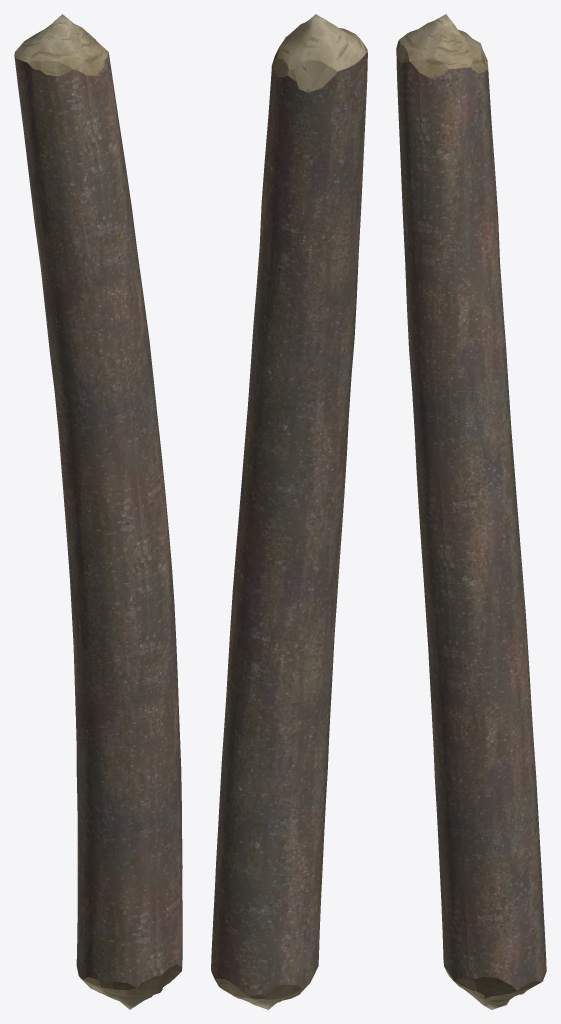
3 renders of one model, left to right at view 1: azimuth 30°, elevation 25°; view 2: azimuth 150°, elevation 25°; view 3: azimuth 330°, elevation 25°, orthographic. The views are drawn at different scales.
Parts seen in each view (by area): view 1: SM_BM_Ash_Tree_01_half_top_LOD0; view 2: SM_BM_Ash_Tree_01_half_top_LOD0; view 3: SM_BM_Ash_Tree_01_half_top_LOD0.
Boxes of the visible parts, x1,y1,x2,y2 form: SM_BM_Ash_Tree_01_half_top_LOD0: [14, 14, 182, 1009]; SM_BM_Ash_Tree_01_half_top_LOD0: [211, 14, 367, 1009]; SM_BM_Ash_Tree_01_half_top_LOD0: [396, 14, 546, 1009].
Bounding box in the file's own units: 0.7405 × 4.8 × 0.5413.
1 material, 1 textured.
